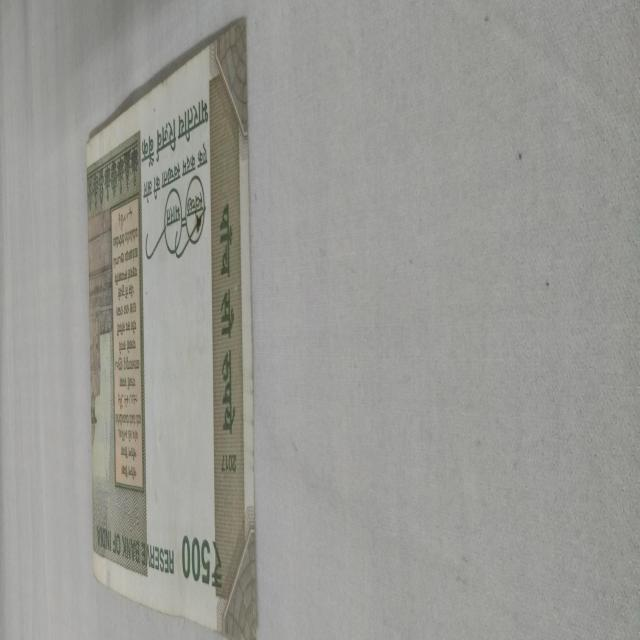Currency: (41, 122, 281, 624)
